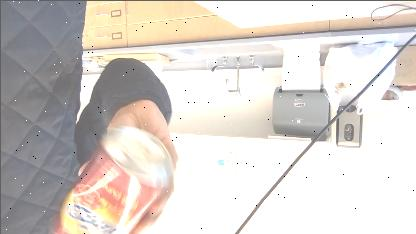Can: (53, 126, 171, 234)
